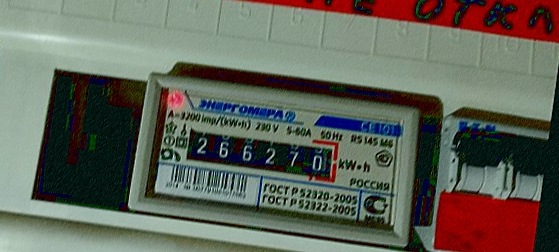0: (308, 151, 322, 172)
2: (192, 133, 209, 156), (261, 145, 276, 166)
6: (215, 138, 229, 160), (239, 141, 253, 162)
7: (284, 148, 299, 168)
screen: (170, 114, 349, 192)
